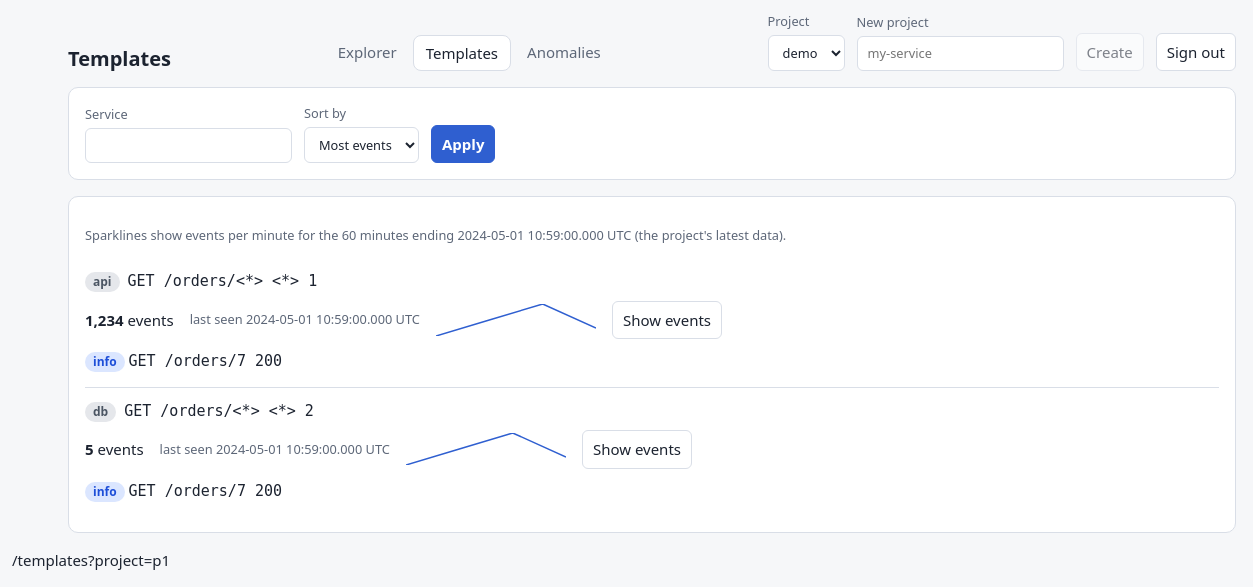
Test: templates page › links between pages and keeps the project in the URL
Expected: the text "GET /orders/<*> <*> 1" is shown, x1=128 y1=270 x2=317 y2=293
Step 1. Click the link "Explorer" → (367, 52), box x1=338 y1=42 x2=397 y2=62
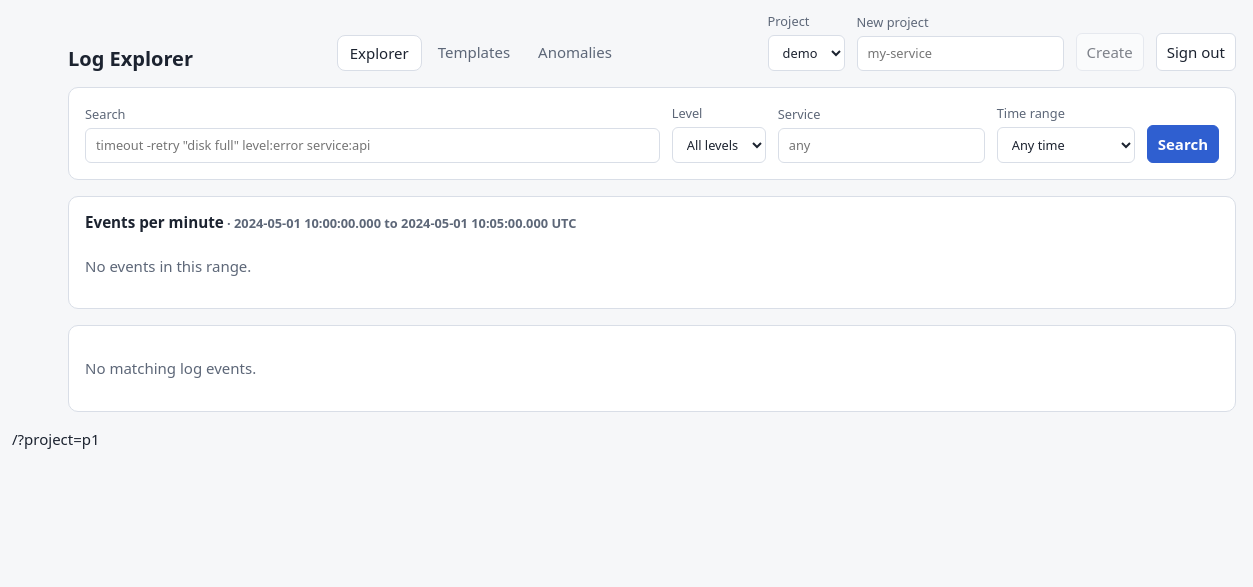
Now the text with test id "location" reads "/?project=p1", box x1=12 y1=429 x2=100 y2=449
